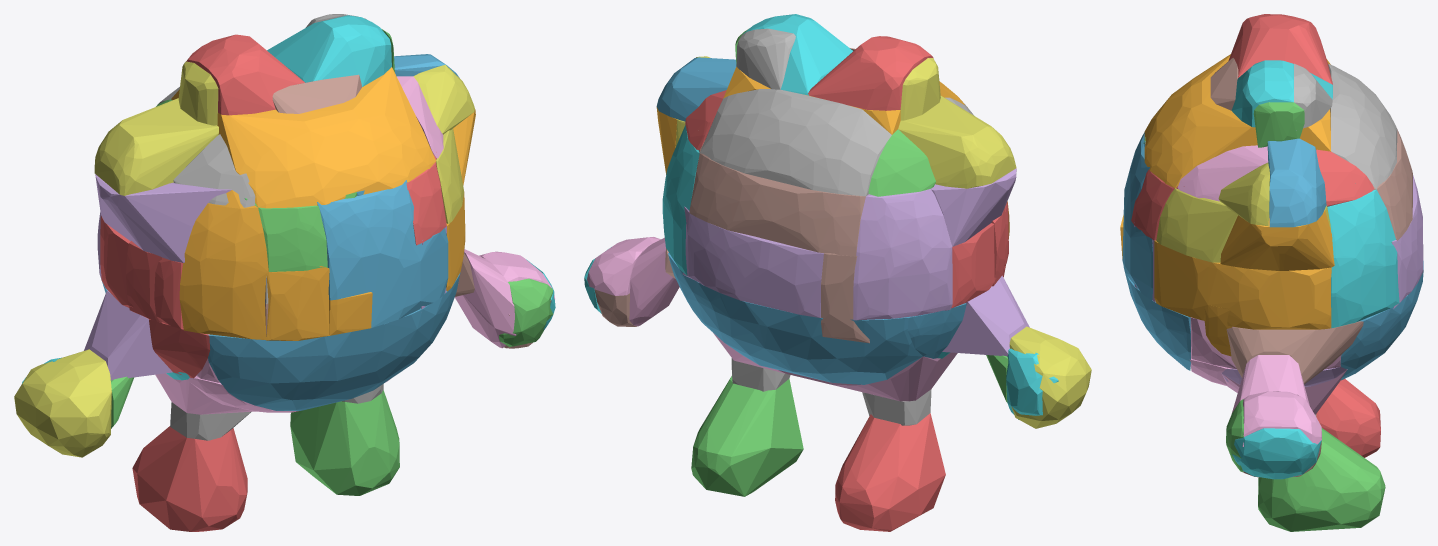
The model's file is godot_plush_standing_VHACD.glb.
3 renders of one model, left to right at view 1: azimuth 30°, elevation 25°; view 2: azimuth 150°, elevation 25°; view 3: azimuth 270°, elevation 25°, orthographic. The views are drawn at different scales.
Parts seen in each view (by area): view 1: 61-convcolonly, 30-convcolonly, 60-convcolonly, 31-convcolonly, 53-convcolonly, 52-convcolonly, 58-convcolonly, 48-convcolonly, 54-convcolonly, 59-convcolonly, 43-convcolonly, 21-convcolonly (+23 smaller); view 2: 37-convcolonly, 50-convcolonly, 24-convcolonly, 25-convcolonly, 53-convcolonly, 52-convcolonly, 34-convcolonly, 48-convcolonly, 43-convcolonly, 58-convcolonly, 44-convcolonly, 59-convcolonly (+20 smaller); view 3: 41-convcolonly, 52-convcolonly, 61-convcolonly, 29-convcolonly, 37-convcolonly, 51-convcolonly, 40-convcolonly, 55-convcolonly, 43-convcolonly, 18-convcolonly, 39-convcolonly, 53-convcolonly (+21 smaller).
Part boxes in pixels (x1,y1,x2,y2): 61-convcolonly: [171, 67, 435, 208]; 30-convcolonly: [205, 272, 460, 410]; 60-convcolonly: [317, 180, 448, 327]; 31-convcolonly: [179, 190, 269, 340]; 53-convcolonly: [132, 426, 247, 531]; 52-convcolonly: [290, 390, 399, 495]; 58-convcolonly: [14, 349, 111, 457]; 48-convcolonly: [94, 98, 218, 195]; 54-convcolonly: [95, 174, 231, 262]; 59-convcolonly: [267, 15, 391, 86]; 43-convcolonly: [186, 34, 304, 115]; 21-convcolonly: [266, 266, 329, 340]; 37-convcolonly: [700, 89, 891, 196]; 50-convcolonly: [668, 253, 922, 384]; 24-convcolonly: [853, 189, 952, 320]; 25-convcolonly: [689, 130, 865, 256]; 53-convcolonly: [835, 413, 945, 531]; 52-convcolonly: [691, 376, 803, 496]; 34-convcolonly: [682, 206, 823, 317]; 48-convcolonly: [898, 96, 1016, 188]; 43-convcolonly: [808, 36, 933, 110]; 58-convcolonly: [1009, 326, 1091, 428]; 44-convcolonly: [942, 275, 1029, 356]; 59-convcolonly: [743, 14, 852, 95]; 41-convcolonly: [1154, 240, 1331, 329]; 52-convcolonly: [1258, 428, 1385, 531]; 61-convcolonly: [1144, 54, 1331, 188]; 29-convcolonly: [1327, 189, 1399, 328]; 37-convcolonly: [1328, 63, 1397, 188]; 51-convcolonly: [1220, 210, 1334, 270]; 40-convcolonly: [1267, 138, 1326, 227]; 55-convcolonly: [1226, 321, 1363, 384]; 43-convcolonly: [1228, 14, 1332, 84]; 18-convcolonly: [1156, 188, 1330, 262]; 39-convcolonly: [1232, 428, 1321, 479]; 53-convcolonly: [1316, 379, 1380, 457].
Bounding box in the file's own units: 0.2193 × 0.1959 × 0.1208.
